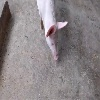heo: (38, 17, 70, 63)
